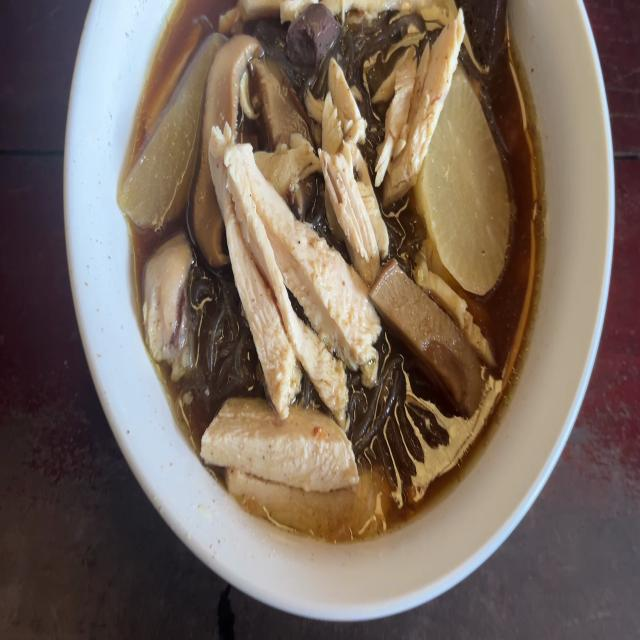noodle: (294, 0, 338, 80), (463, 0, 509, 67)
